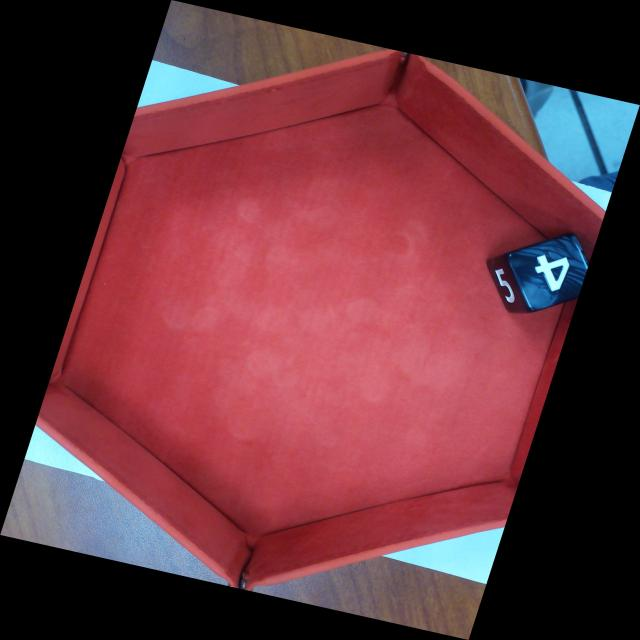dice: (503, 227, 605, 316)
